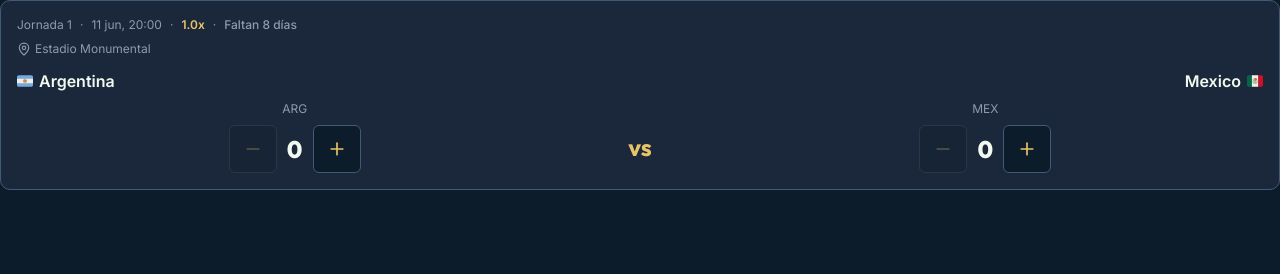
MatchCard › actualiza la UI inmediatamente y guarda una vez tras 500ms
Step 1. Click the button named "Incrementar goles de Argentina" → click(337, 149), box [313, 125, 361, 173]
Wait 1500 ms
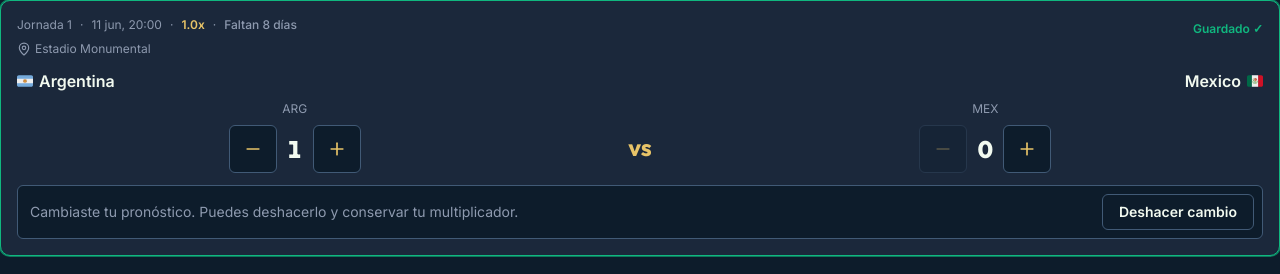
Now the text "1" is shown, box [288, 134, 302, 164]
